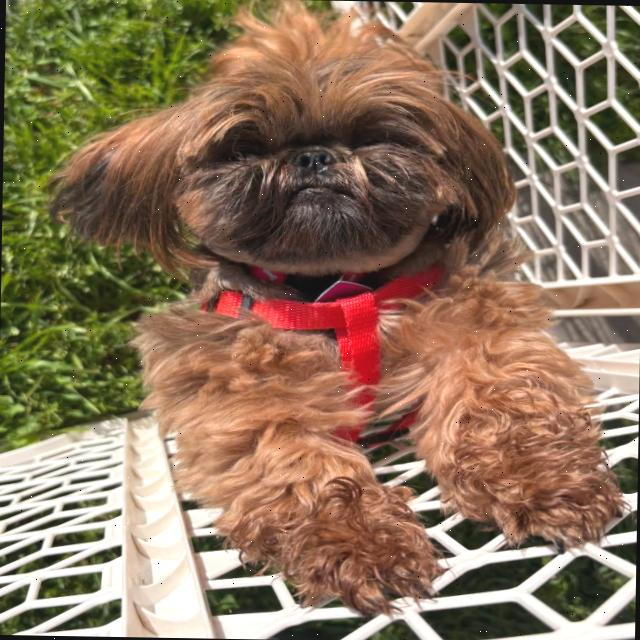shih_tzu_dog: (49, 1, 524, 300)
